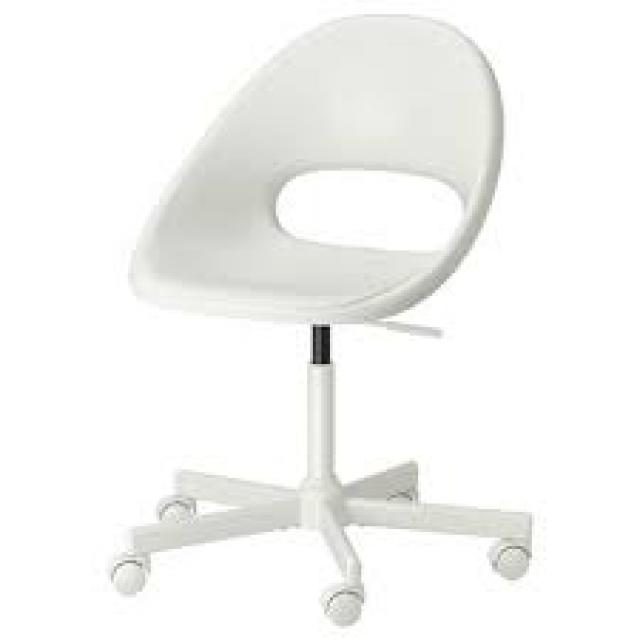chair: (101, 8, 537, 620)
